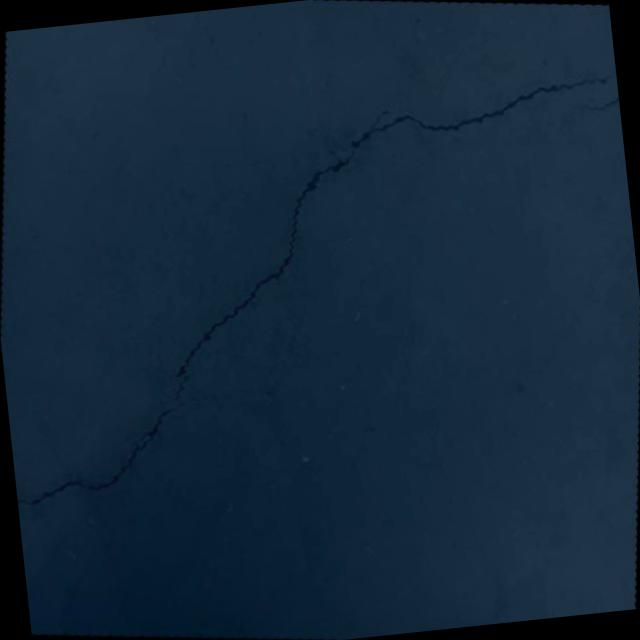crack: (0, 0, 640, 581), (566, 87, 620, 120)
